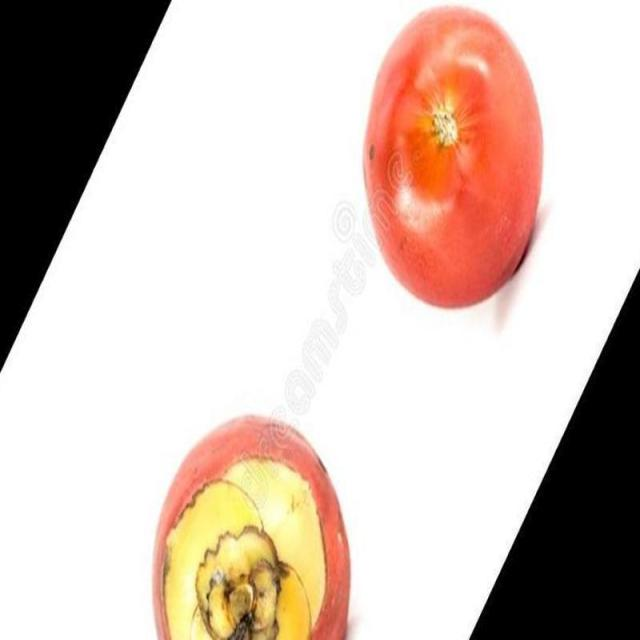good: (362, 6, 546, 312), (152, 415, 353, 639)
